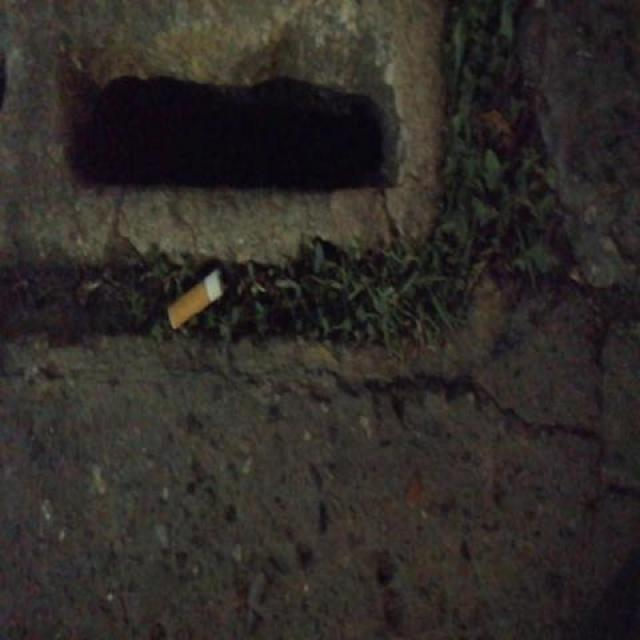non-organic waste: (165, 264, 232, 336)
